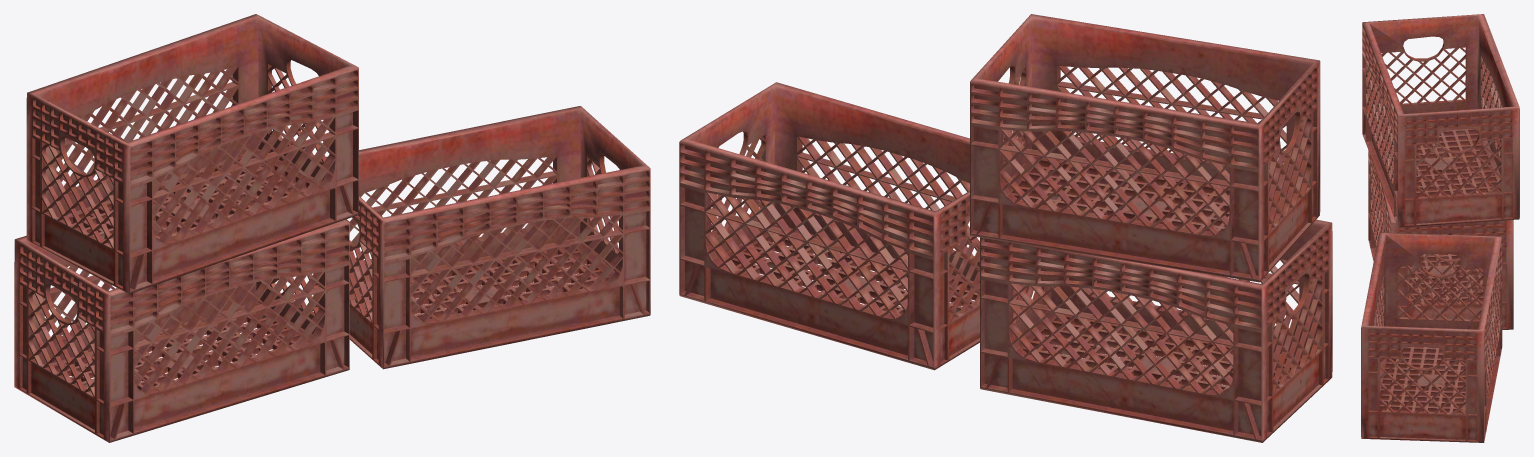
The model's file is milk_crate.glb.
3 views of the same model, side by side, from view 1: azimuth 30°, elevation 25°; view 2: azimuth 150°, elevation 25°; view 3: azimuth 270°, elevation 25° (orthographic). The views are drawn at different scales.
Visible parts, largest first — view 1: plastic_crate_03 (×3); view 2: plastic_crate_03 (×3); view 3: plastic_crate_03 (×3).
Part boxes in pixels (<box>): plastic_crate_03 (×3): <box>14,14,650,442</box>; plastic_crate_03 (×3): <box>679,14,1332,442</box>; plastic_crate_03 (×3): <box>1361,14,1519,442</box>.
Bounding box in the file's own units: 1.05 × 0.5302 × 0.3398.
1 material, 1 textured.
